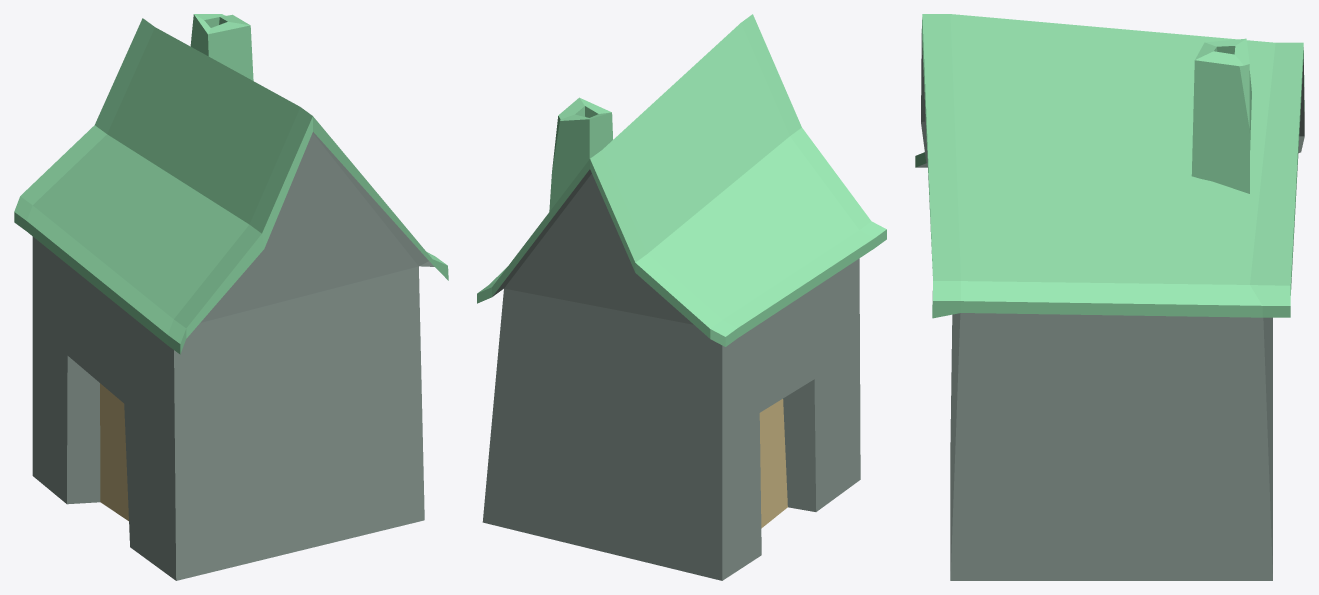
The model's file is House.fbx.
3 renders of one model, left to right at view 1: azimuth 30°, elevation 25°; view 2: azimuth 150°, elevation 25°; view 3: azimuth 270°, elevation 25°, orthographic. The views are drawn at different scales.
Visible parts, largest first — view 1: Cube; view 2: Cube; view 3: Cube.
Boxes of the visible parts, bbox=[...] form: Cube: bbox=[14, 14, 448, 580]; Cube: bbox=[477, 14, 886, 580]; Cube: bbox=[915, 14, 1304, 580].
Size of the model in its own units: 242 by 222 by 341.
